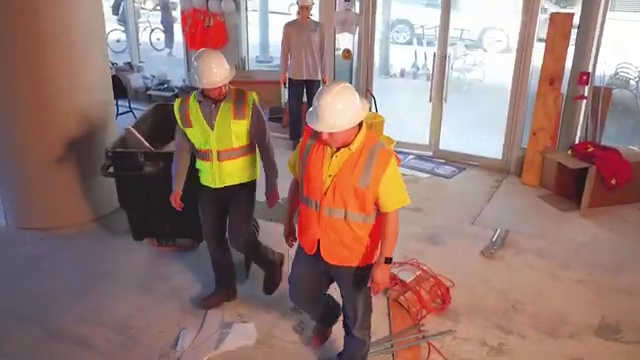helmet: (294, 74, 374, 128), (181, 40, 249, 88)
jacket: (295, 137, 395, 283), (165, 88, 268, 187)
